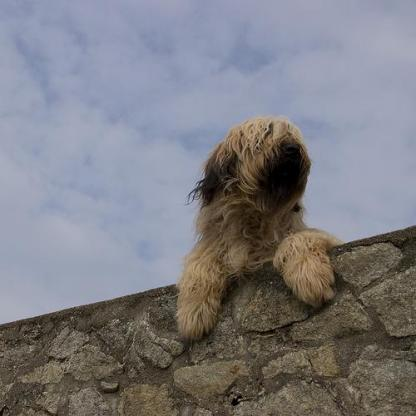briard: (174, 113, 343, 340)
